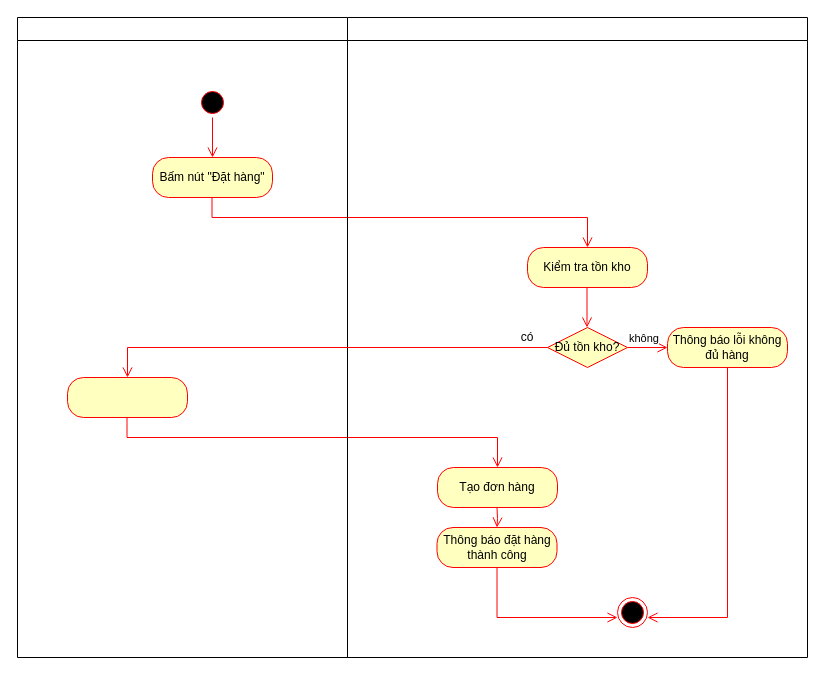
Image size: 825x675. Some labels were removed from this diagram. The box of each missing label's shape, as (x1, y1, x2, y2) in pixels:
Hệ thống: (346, 16, 808, 658)
Khách hàng: (16, 16, 348, 658)
Nhập mã giảm giá và xác nhận đặt hàng: (66, 376, 188, 418)
